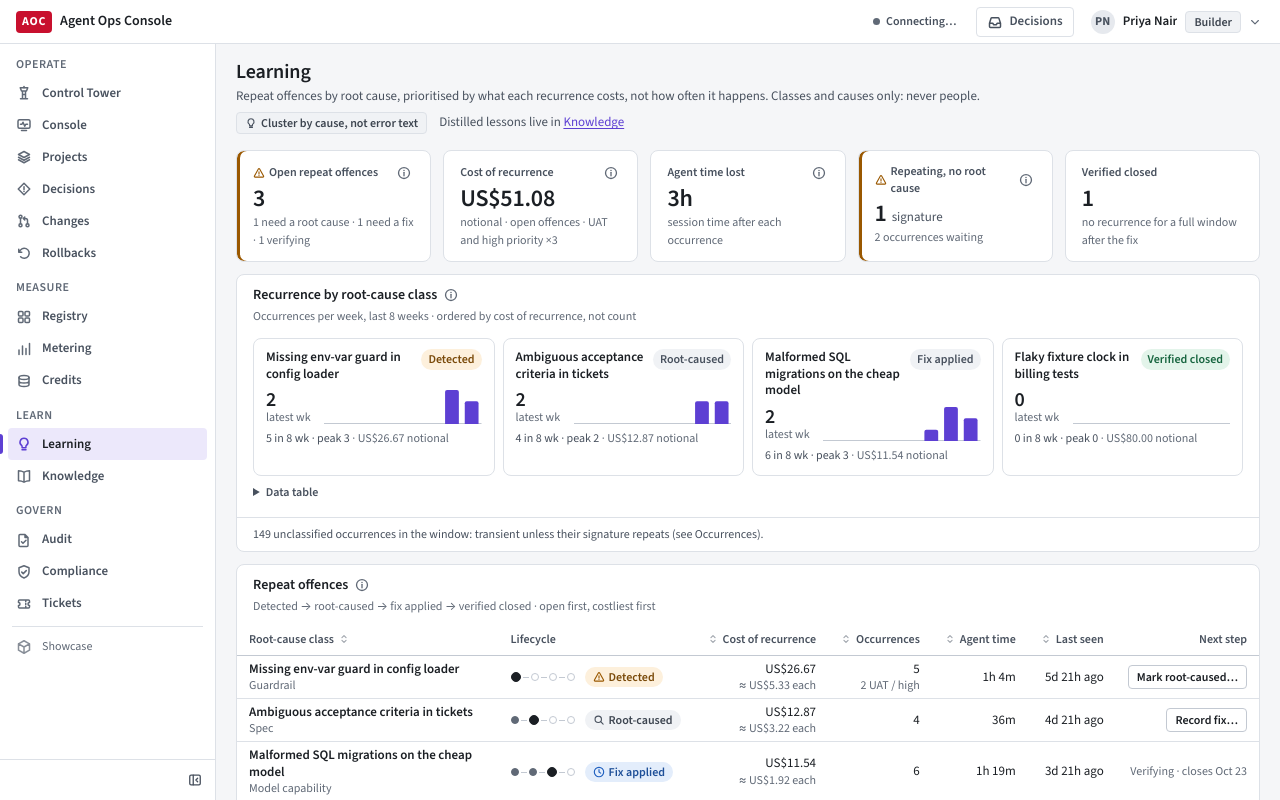
Test: Learning page › marks an offence root-caused, requiring the cause first
Later steps or results of the test are not shown.
Check: the heading "Learning" is shown, box [236,58,311,85]
Click the button "Mark root-caused…".
click(1187, 677)  # box [1128,665,1247,689]
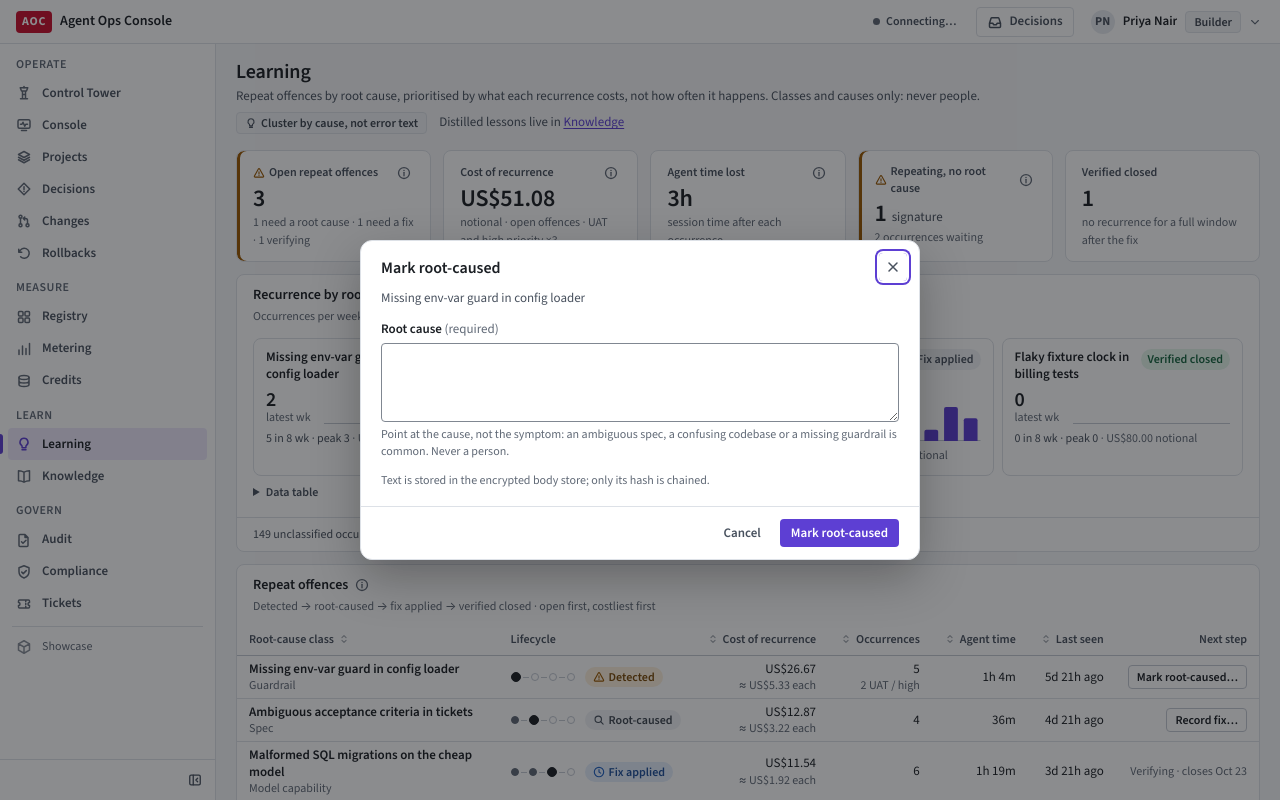
Click the button "Mark root-caused".
click(839, 533)  # box [780,519,899,547]
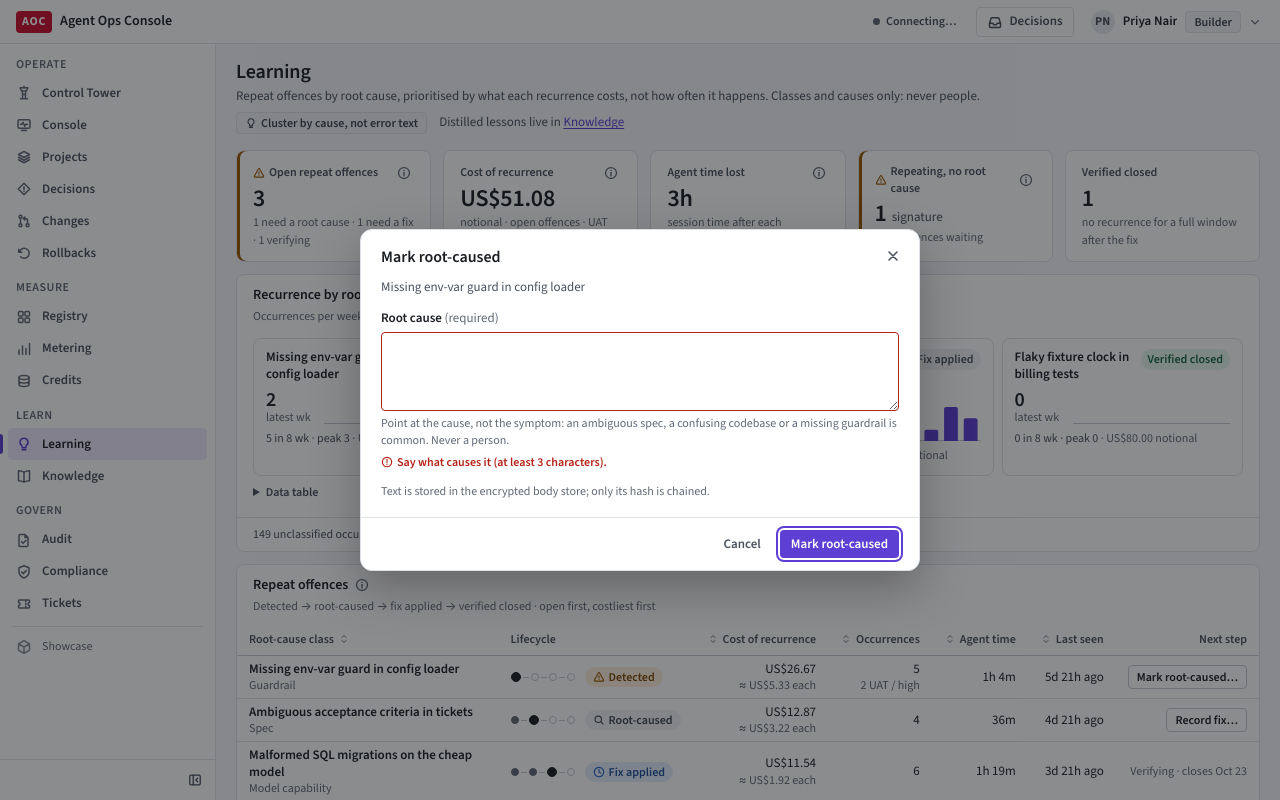
Check: the text "Say what causes it (at least 3 characters)." is shown, box [381,454,607,470]
